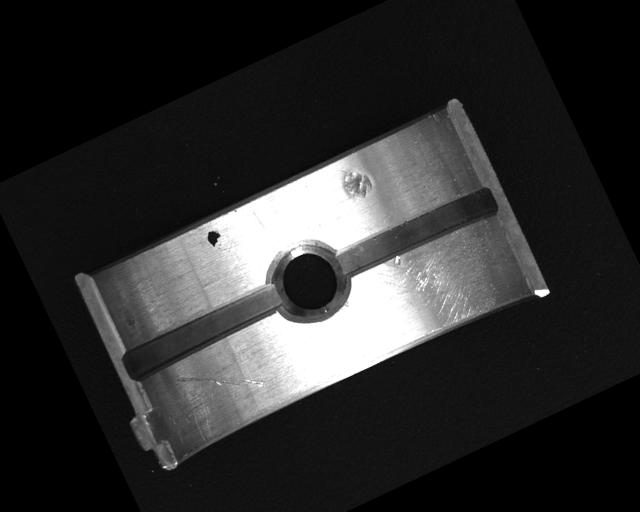blot: (204, 226, 227, 252)
bruise: (335, 159, 377, 205)
gap: (328, 180, 503, 288), (117, 281, 285, 383)
hole: (256, 229, 358, 334)
nick: (174, 345, 266, 420)
scratch: (344, 213, 523, 360)
